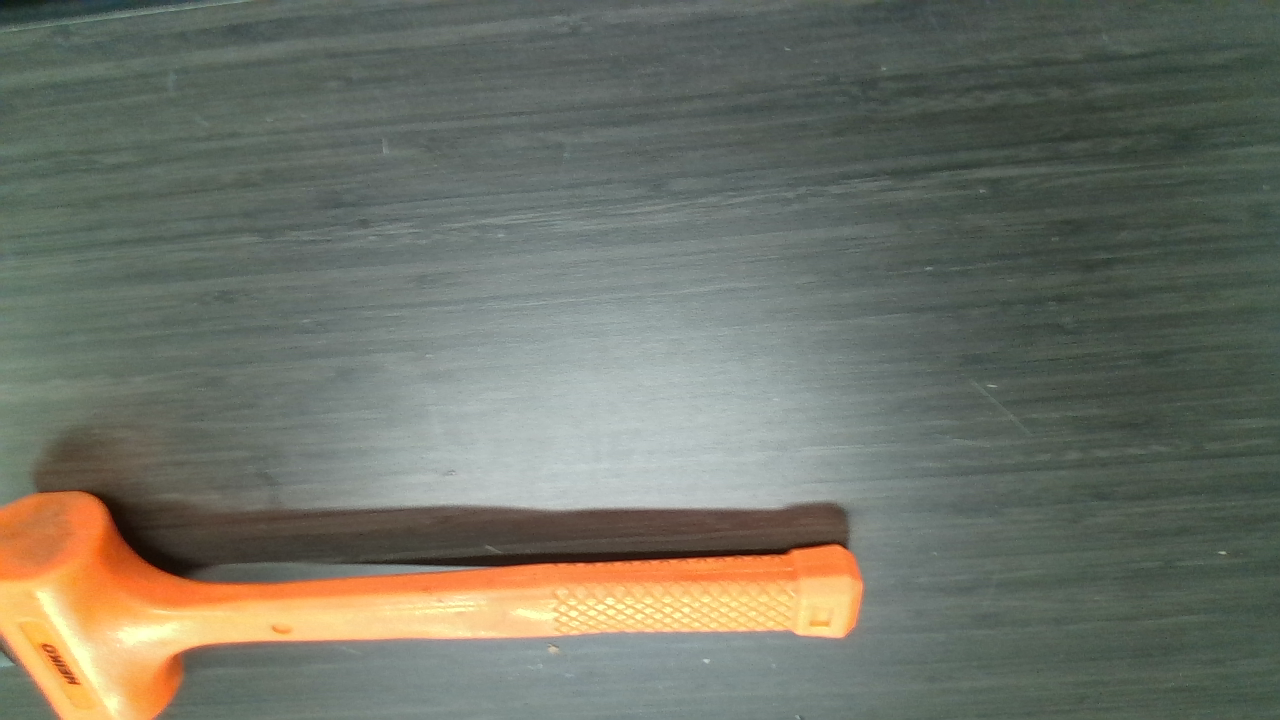Orange Hammer: (5, 494, 862, 717)
